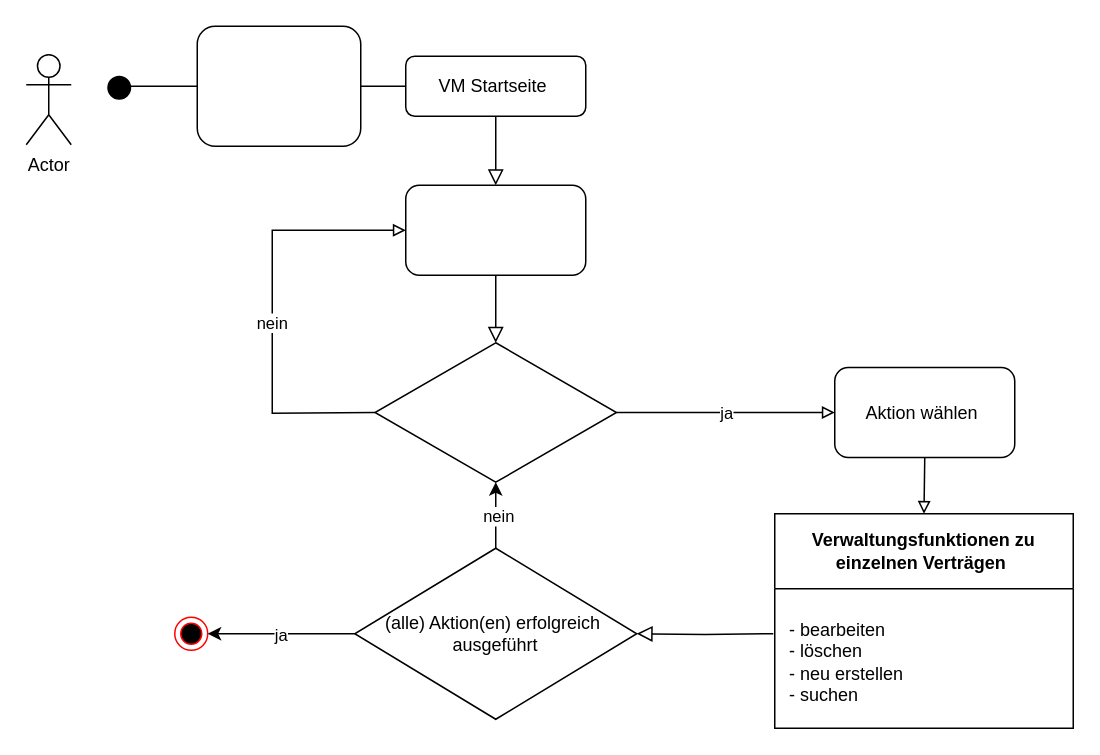
Some shapes in this 1100 by 755 pixel diagram are drawn without their labels. The centre of each missing label's shape, as x and y in pixels:
"erfolgreiche Anmeldung eines autorisierten Benutzers" belongs at point 278,85.
"richtigen Vertrag ausgewählt" belongs at point 495,411.
"Unternehmen aus Liste auswählen" belongs at point 495,229.
